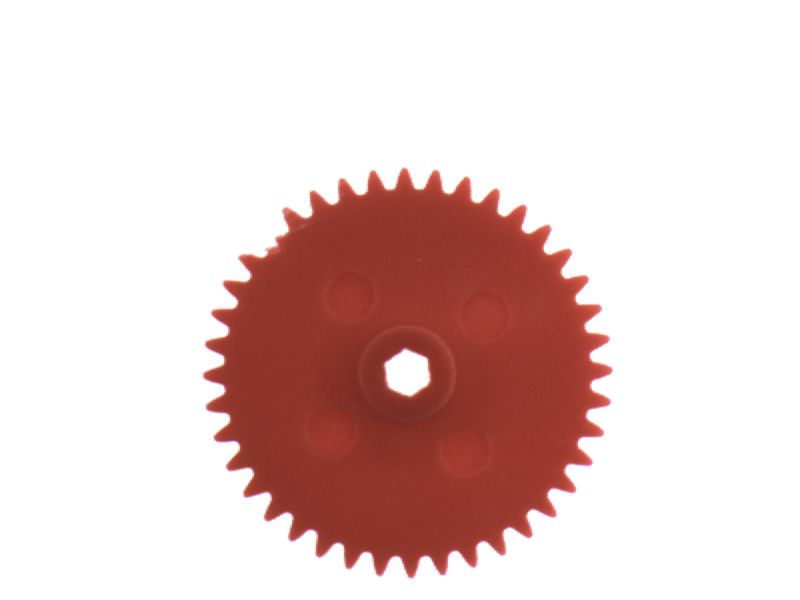defect_lack: (242, 210, 302, 266)
